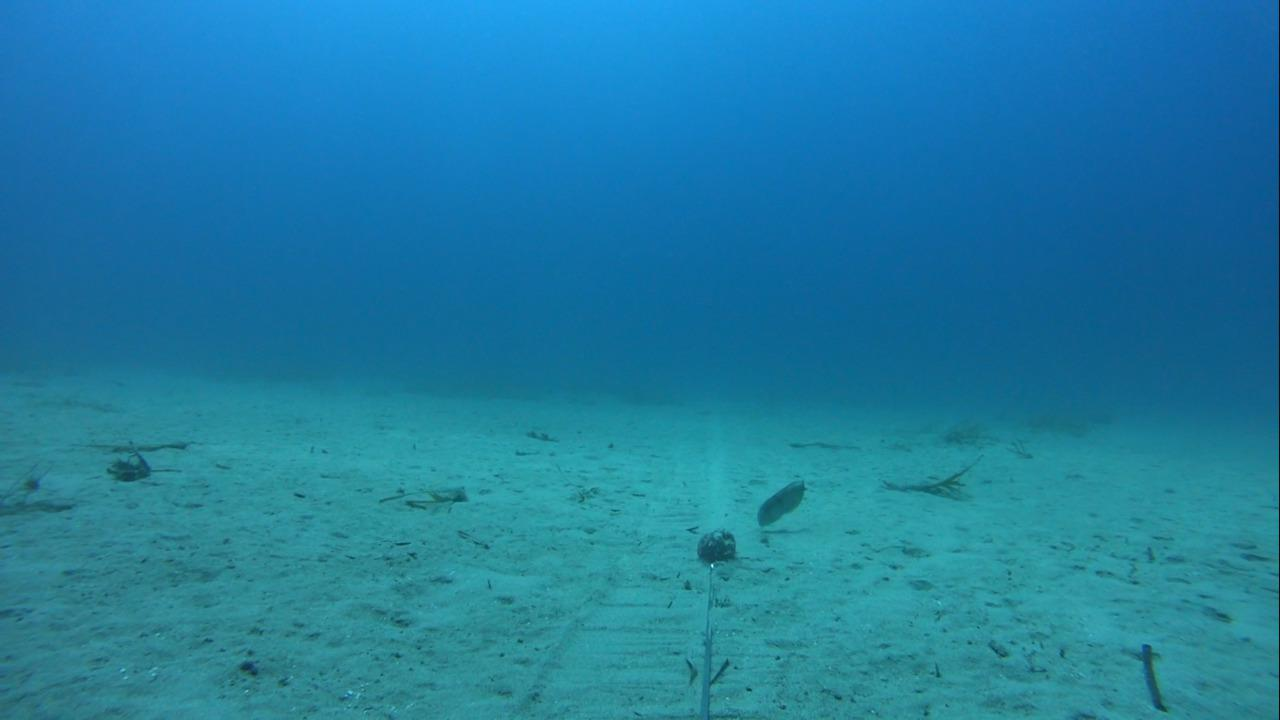raor: (750, 475, 812, 527)
